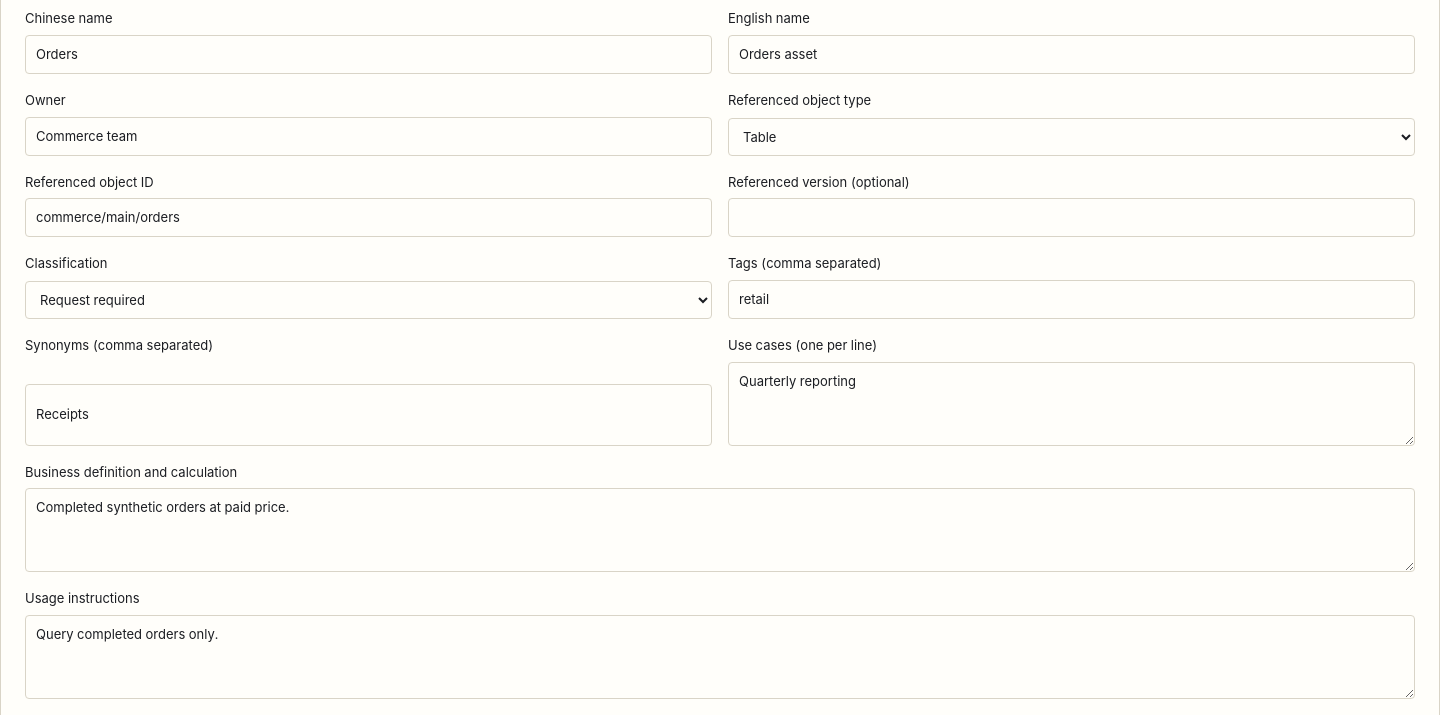
Scenario: edits an existing asset with its full definition and preserves the referenced version
The width and height of the screenshot is (1440, 715).
Replace the text in the field labelled "Owner" with "New owner" at (368,136), box [25,117,712,156]
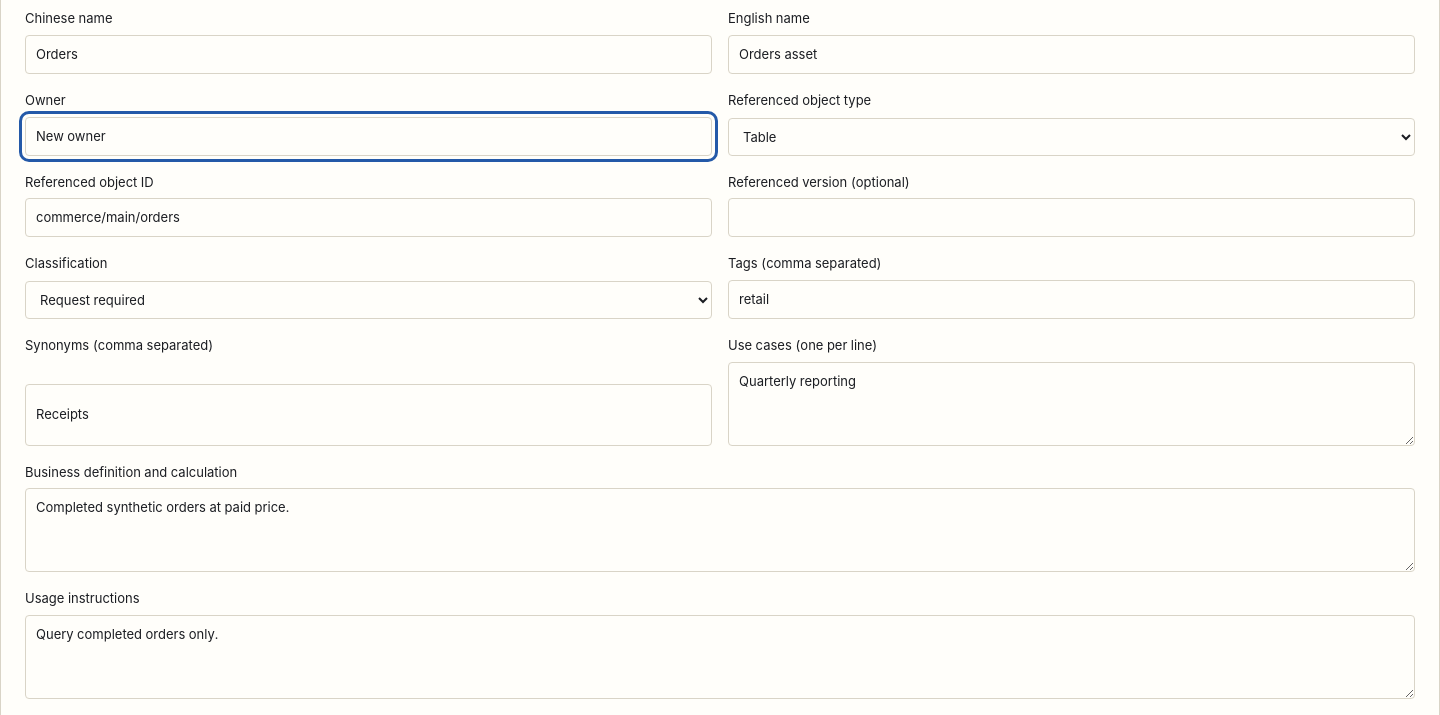
Type "v1" into the field labelled "Referenced version (optional)" at (1072,218), box [728,198,1415,237]
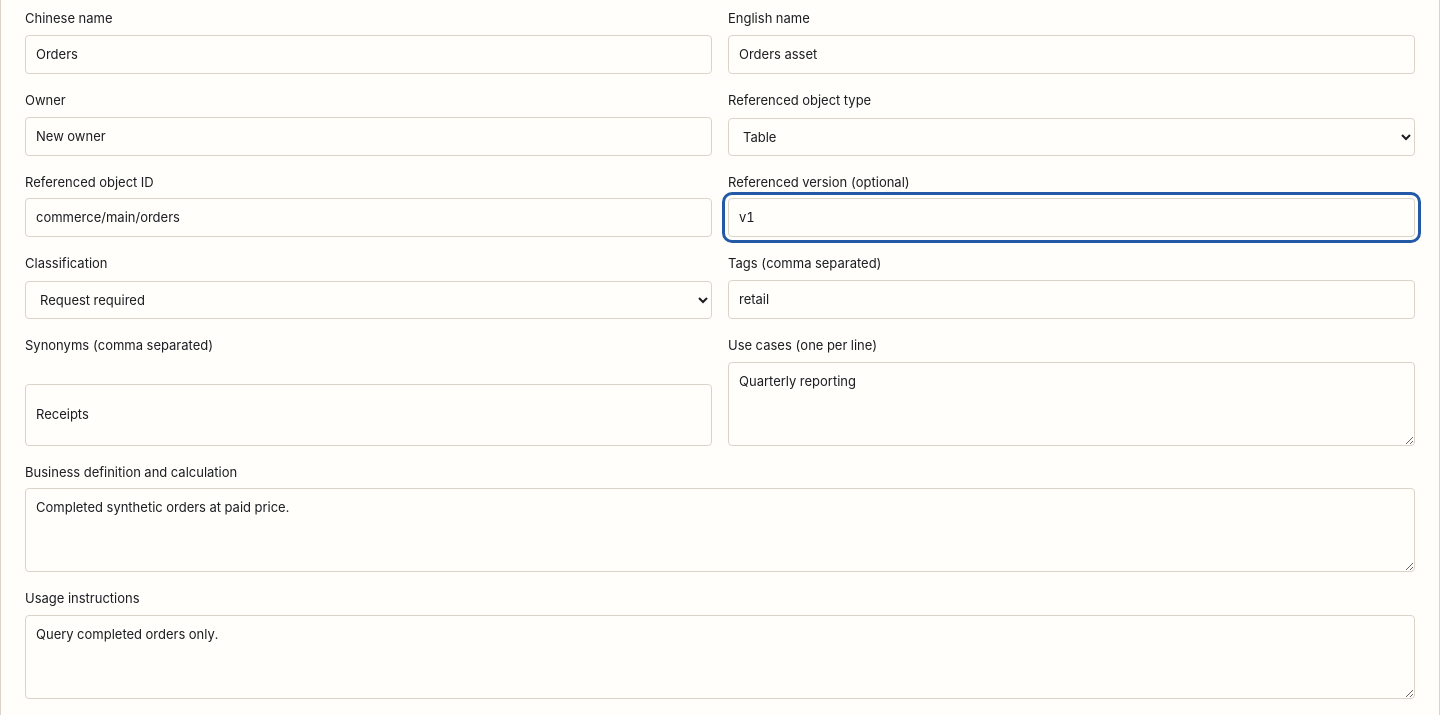
Select "Restricted" in the dropdown labelled "Classification" at (368,300), box [25,281,712,319]
(page scrolled)
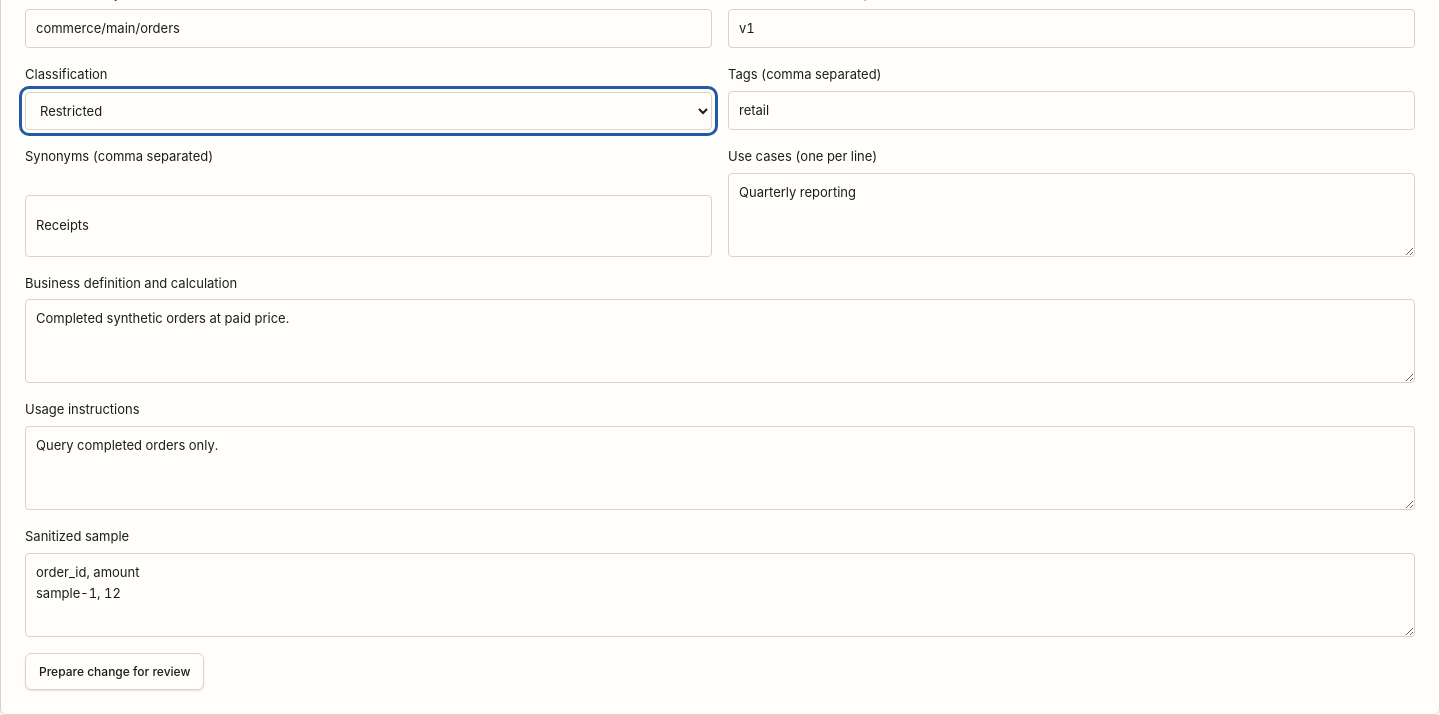
Click the button "Prepare change for review" at (115,672), box [25,653,204,690]
(page scrolled)
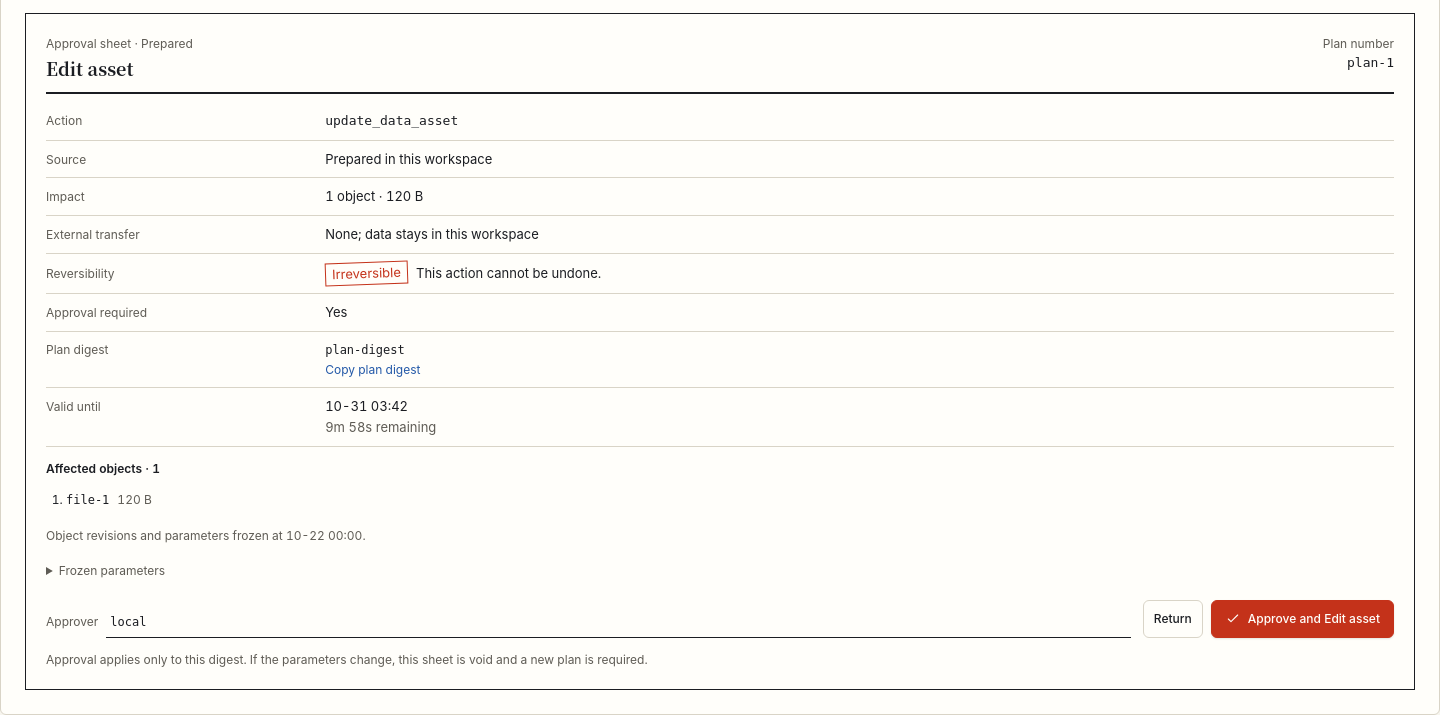
Now the button "Approve and Edit asset" is shown, box [1211,600,1394,638]
